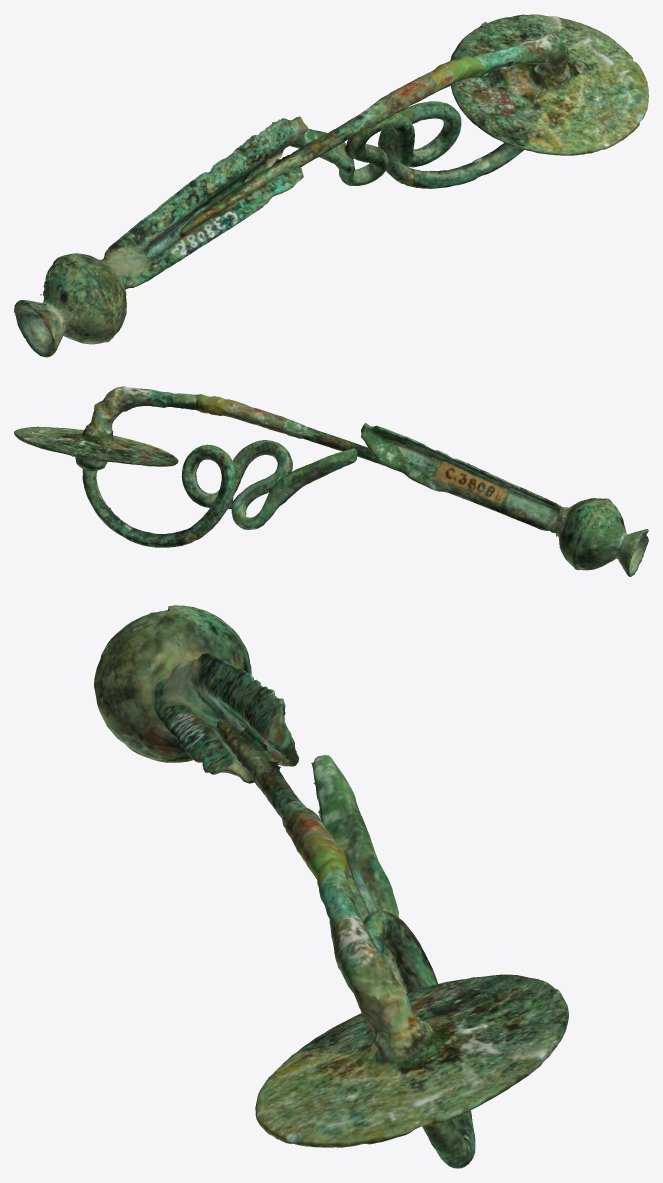
3 renders of one model, top to bottom at view 1: azimuth 30°, elevation 25°; view 2: azimuth 150°, elevation 25°; view 3: azimuth 270°, elevation 25°, orthographic. The views are drawn at different scales.
Parts seen in each view (by area): view 1: Mesh_0.006; view 2: Mesh_0.006; view 3: Mesh_0.006.
Part boxes in pixels (bbox=[...]): Mesh_0.006: bbox=[14, 14, 648, 357]; Mesh_0.006: bbox=[14, 386, 648, 576]; Mesh_0.006: bbox=[94, 605, 568, 1168].
Bounding box in the file's own units: 0.7596 × 0.173 × 0.2798.
Materials: 1 (1 with a texture image).
